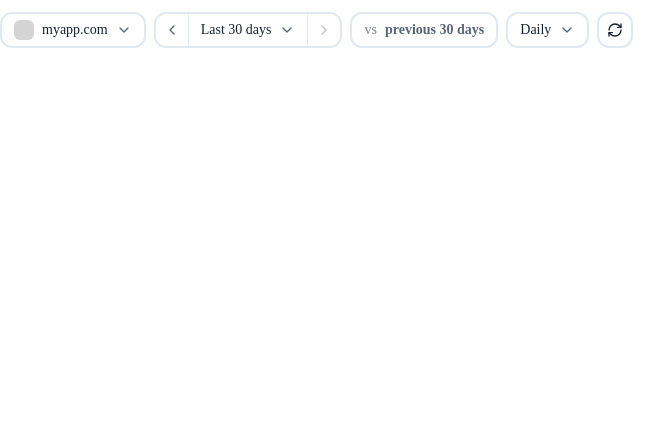
Test: AnalyticsToolbar › lists presets with key hints, marks the current one and keeps the tabs
Click the heading named "Period: Last 30 days" at (248, 30), box [201, 22, 296, 38]
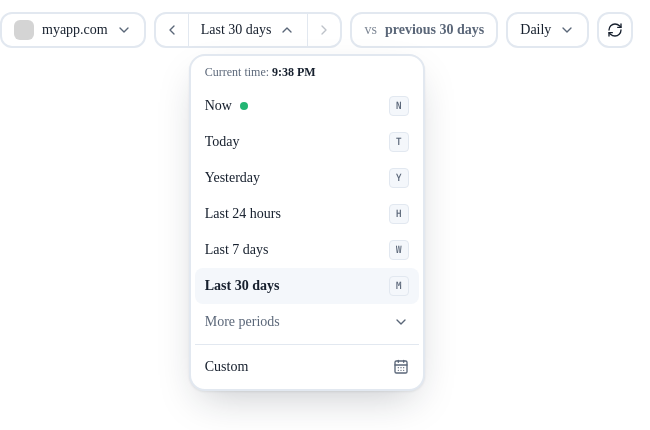
Result: the text "9:38 PM" is shown at [272, 65, 316, 79]
